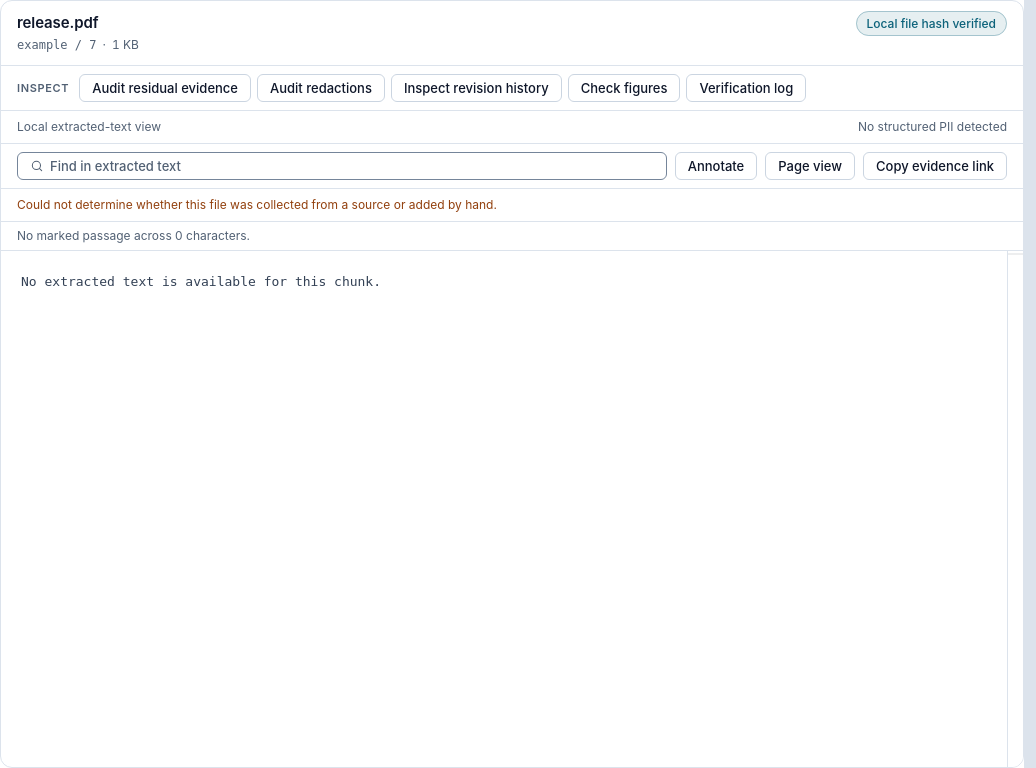
provenance verification log › states that an empty log is an absence of checks, not a result
Click the button "Verification log" at x=746, y=88, box [686,74,806,102]
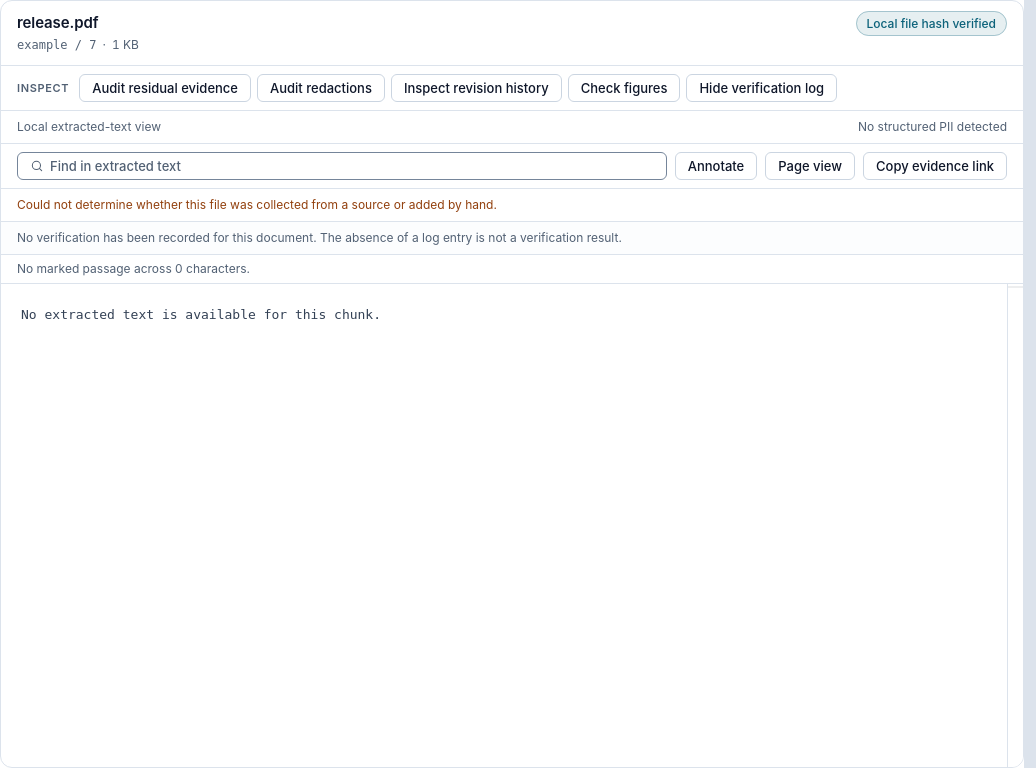
Result: the text "No verification has been recorded for this document" is shown at [17,230,622,245]
